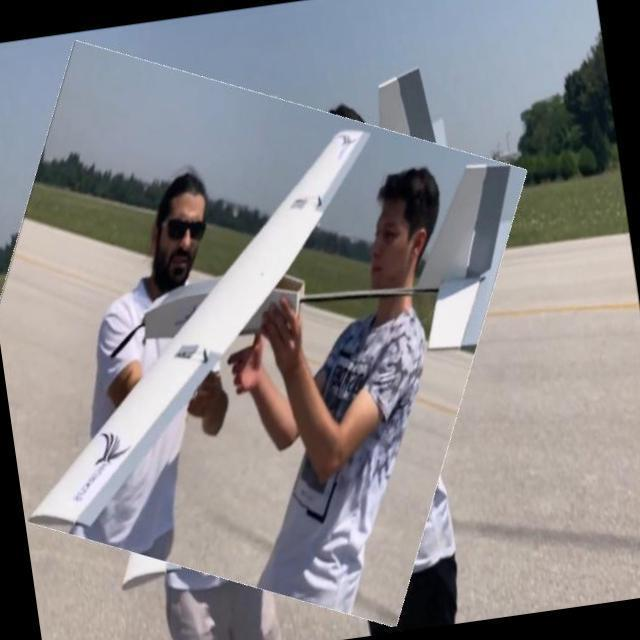iha: (39, 73, 545, 523)
